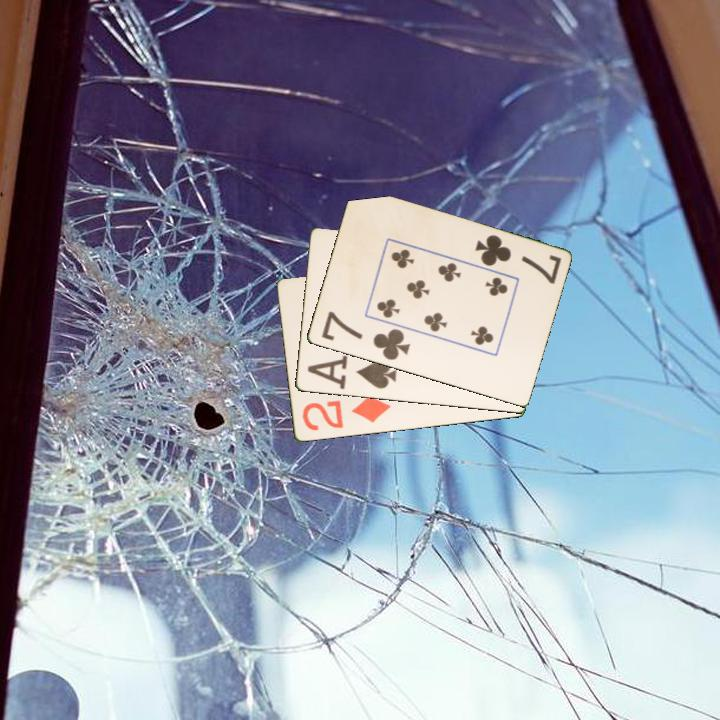2d: (298, 392, 394, 434)
7c: (318, 308, 413, 363), (471, 231, 564, 287)
As: (312, 357, 399, 392)
